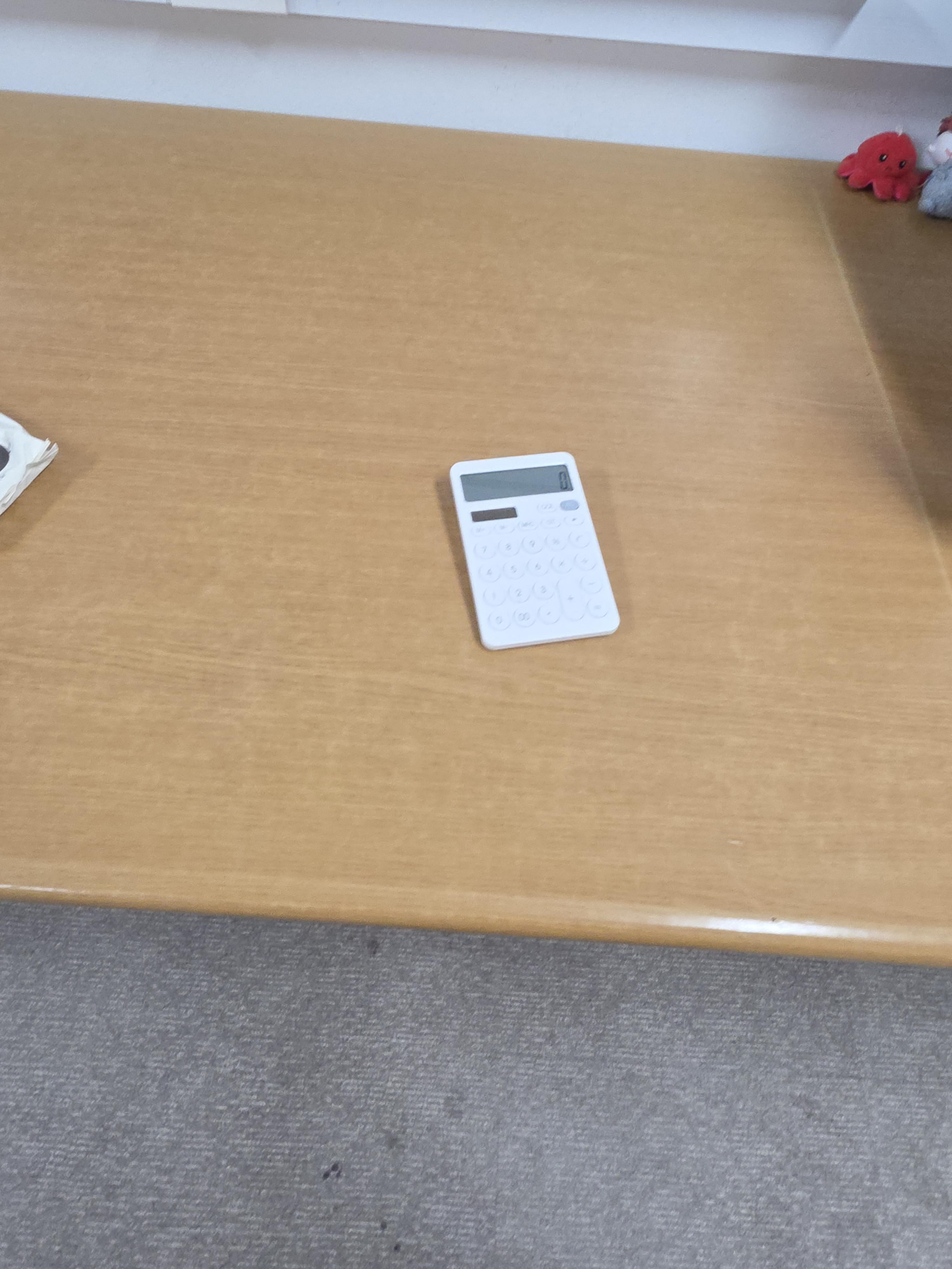calculator: (449, 451, 620, 651)
tissue: (0, 412, 59, 516)
